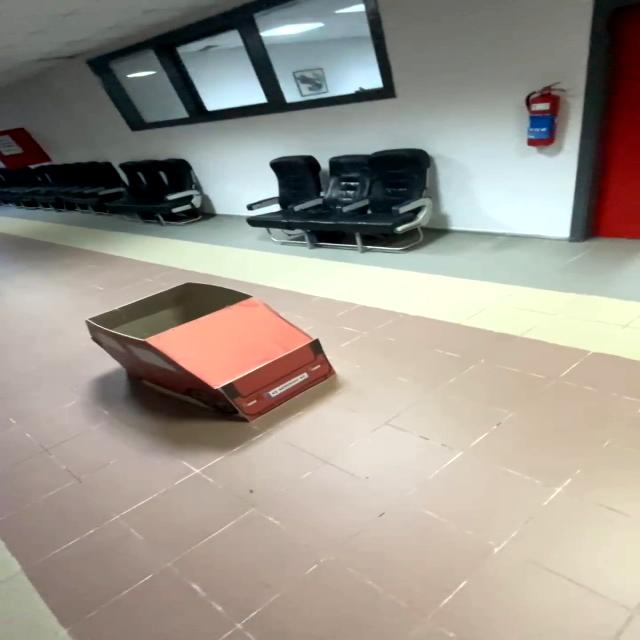red_car: (71, 265, 352, 433)
